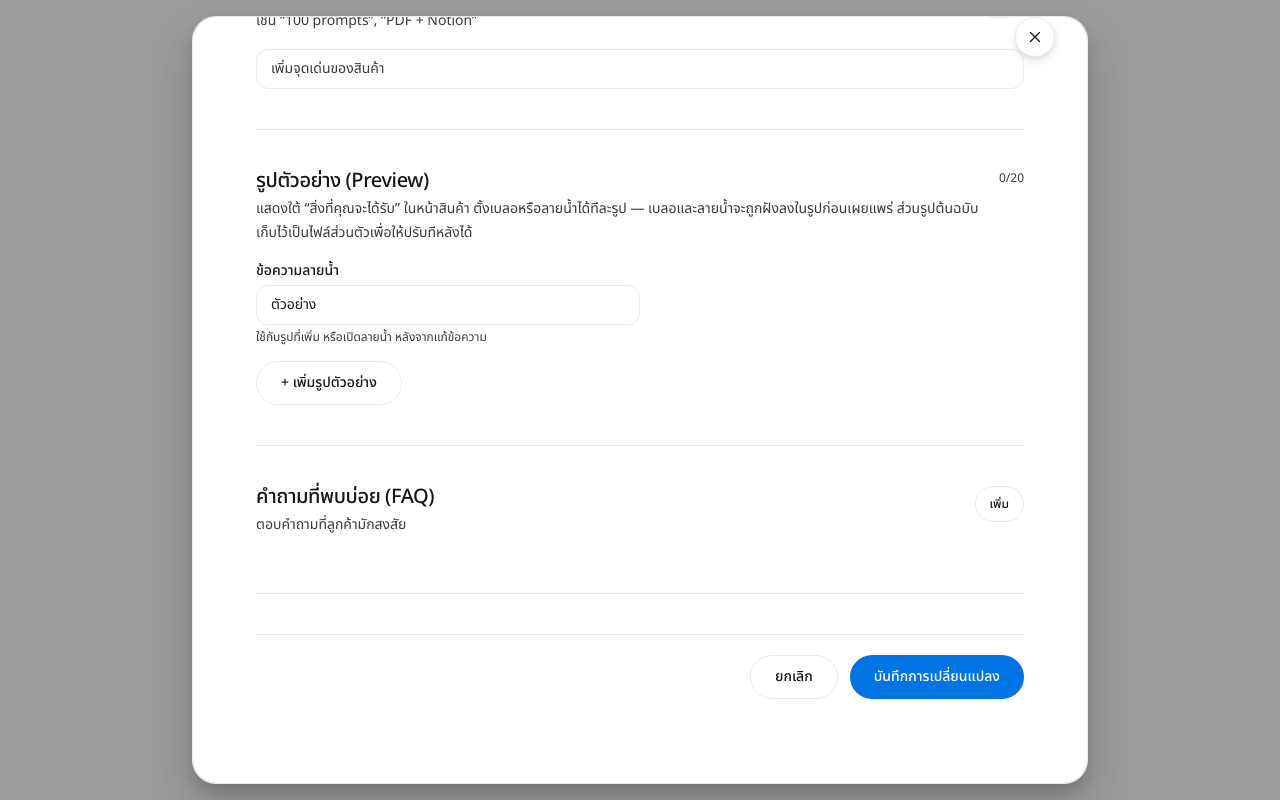
Test: keeps a saved edit open when the public catalog refresh fails
(page scrolled)
What coordinates should you click on to do the following:
click the button "บันทึกการเปลี่ยนแปลง"
I would click on:
 (937, 676)
Its box is 850,654 -> 1024,698.
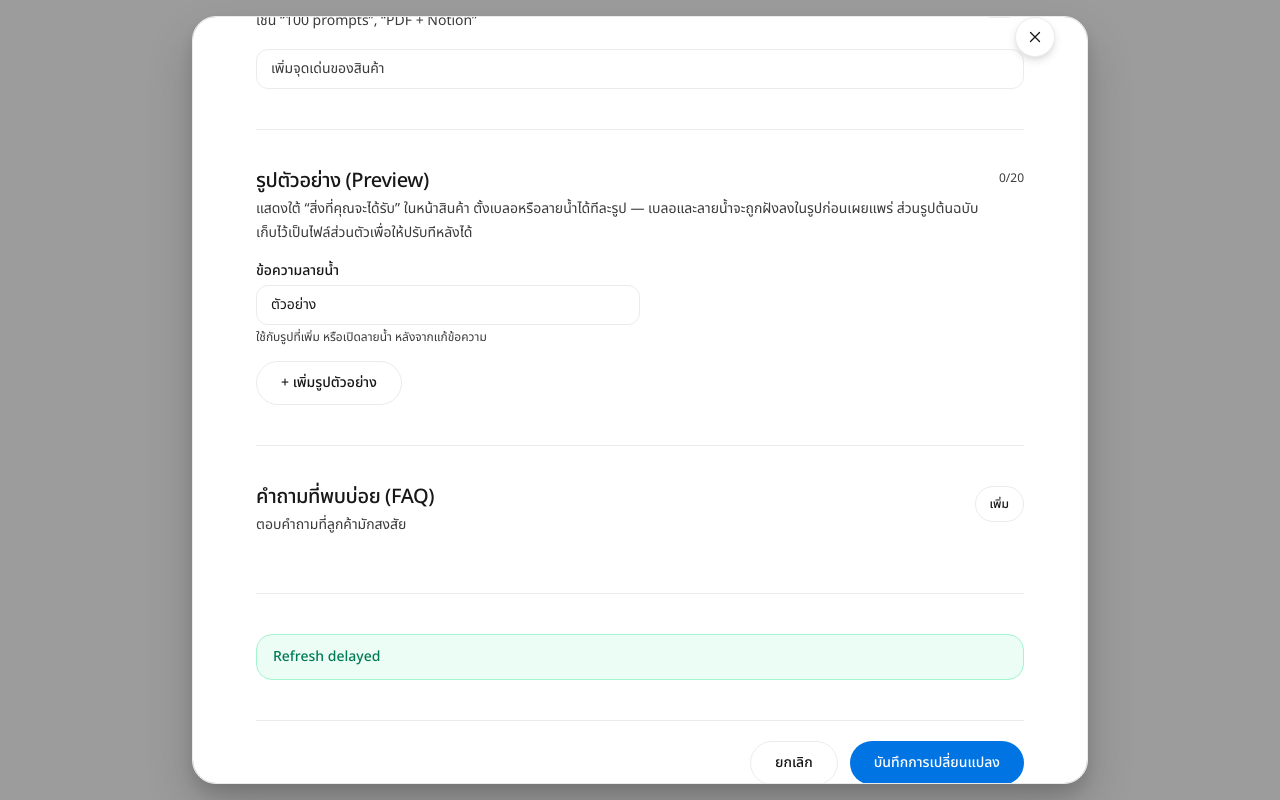
Check: the message reads "Refresh delayed", box 273,646 -> 380,666
